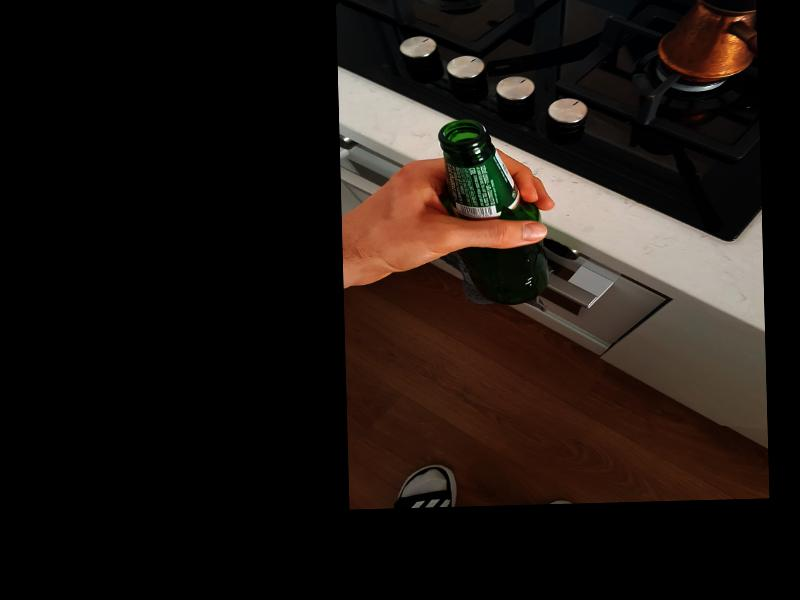Beer: (438, 117, 547, 307)
